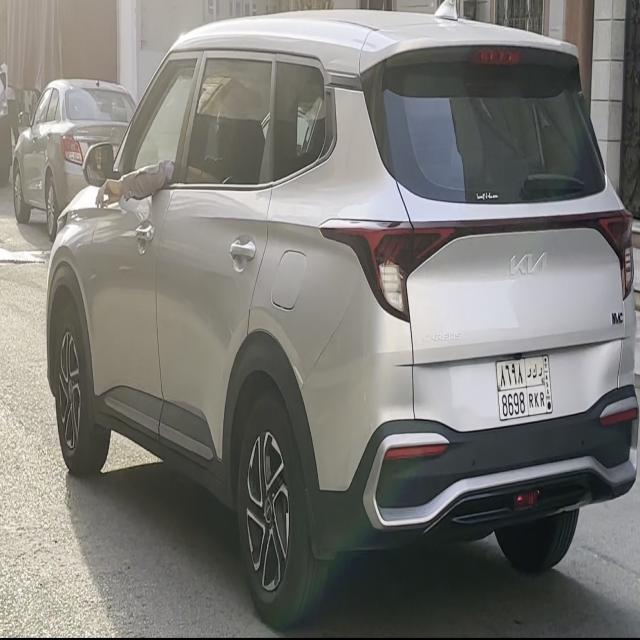Car-plate: (490, 346, 561, 428)
